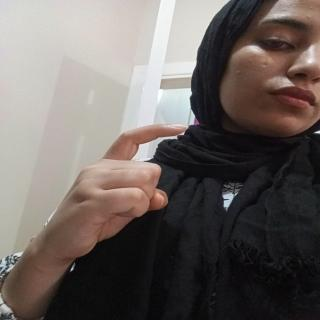RAA: (28, 113, 202, 266)
